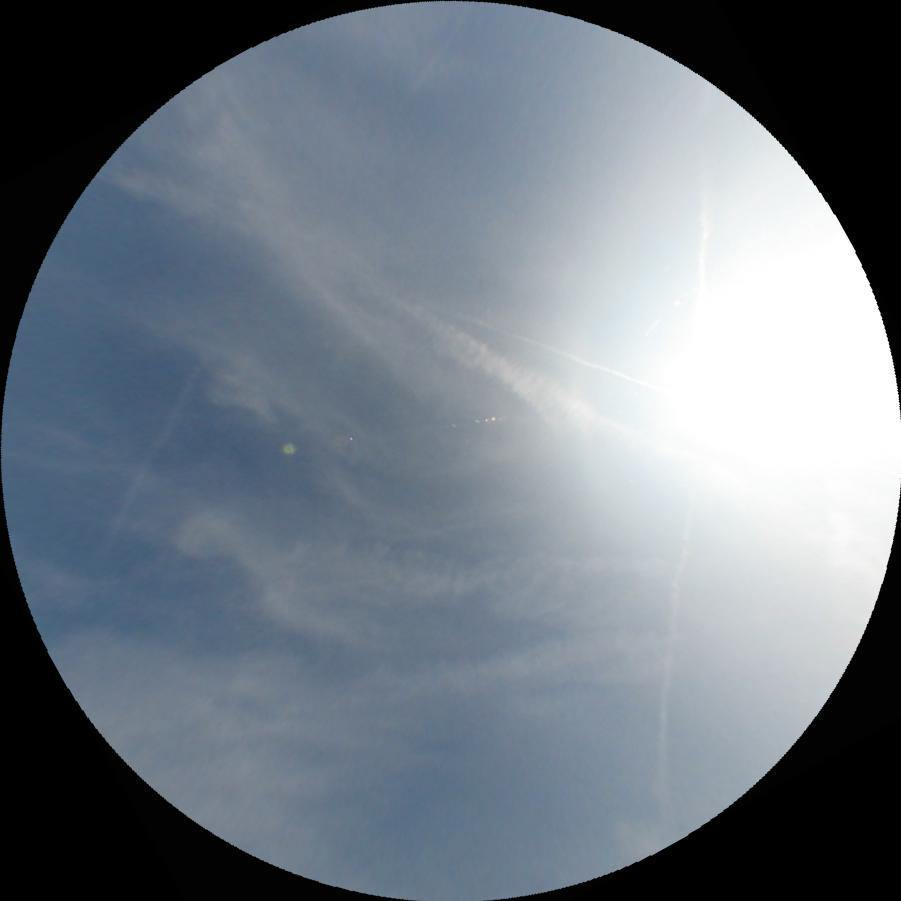contrail old: (651, 138, 721, 836), (100, 363, 203, 542), (457, 311, 664, 395)
contrail veryold: (168, 507, 675, 675), (363, 283, 665, 485), (301, 618, 681, 766)
contrail young: (532, 597, 568, 618)
